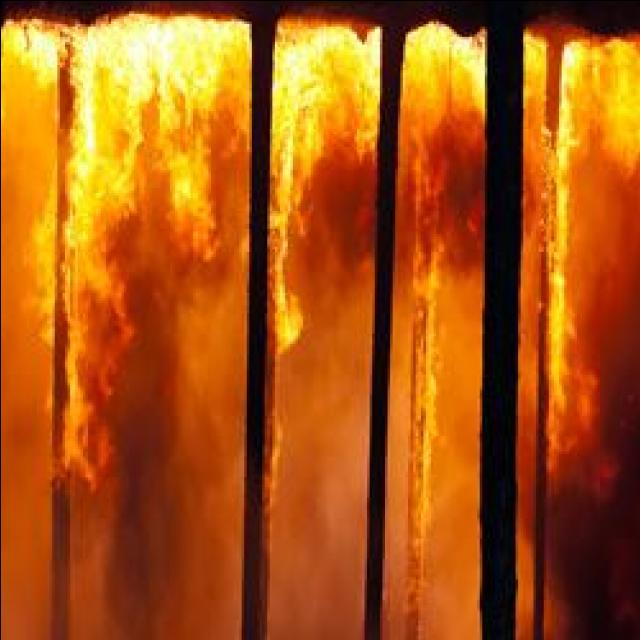fire: (70, 12, 222, 254), (272, 38, 316, 352), (268, 34, 376, 160), (558, 34, 640, 169), (2, 22, 62, 92)
smoke: (98, 321, 170, 640), (521, 457, 633, 635)
